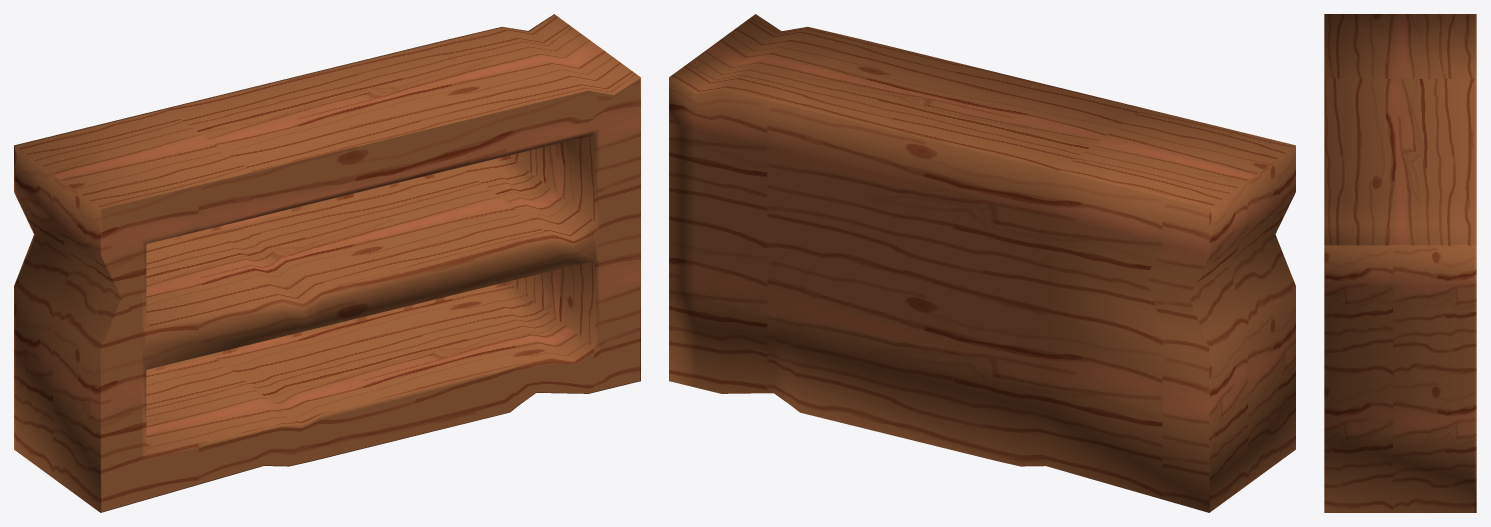
File: WiszącaSzafka.fbx
3 views of the same model, side by side, from view 1: azimuth 30°, elevation 25°; view 2: azimuth 150°, elevation 25°; view 3: azimuth 270°, elevation 25° (orthographic). The views are drawn at different scales.
Visible parts, largest first — view 1: Cube; view 2: Cube; view 3: Cube.
Boxes of the visible parts, <box> form: Cube: <box>14,14,640,512</box>; Cube: <box>669,14,1295,512</box>; Cube: <box>1324,14,1476,512</box>.
Bounding box in the file's own units: 285 × 154 × 79.19.
